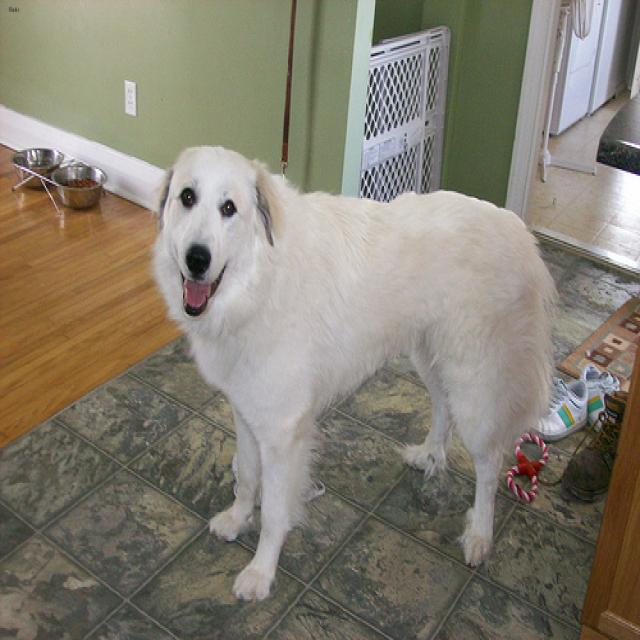dog-great_pyrenees: (146, 133, 566, 611)
